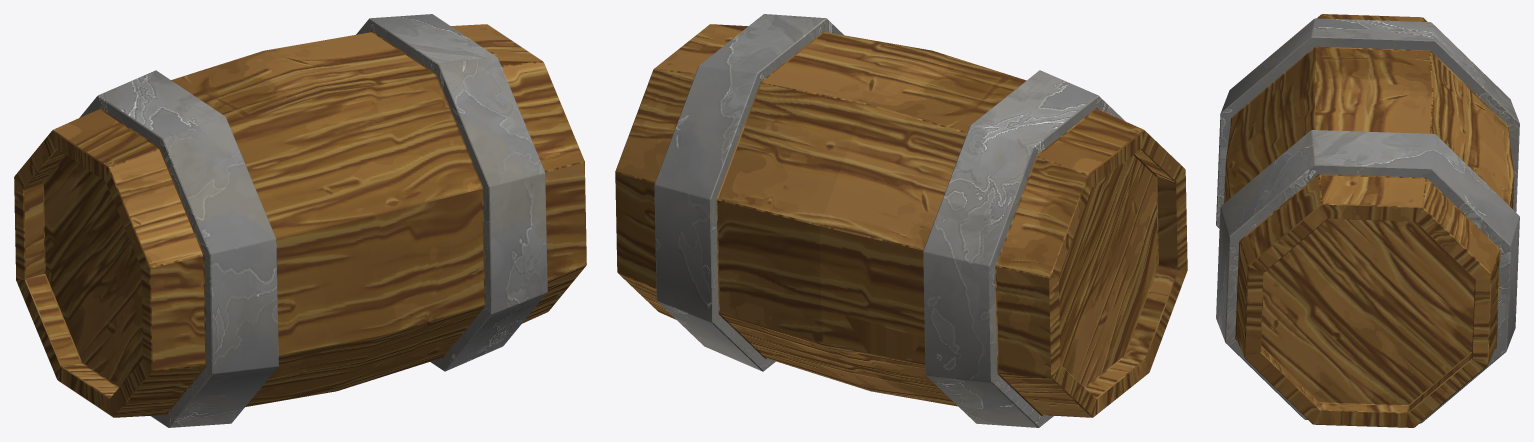
The model's file is Barrel.fbx.
The picture shows the model from 3 angles, left to right: view 1: azimuth 30°, elevation 25°; view 2: azimuth 150°, elevation 25°; view 3: azimuth 270°, elevation 25°; orthographic projection. The views are drawn at different scales.
Parts seen in each view (by area): view 1: Barrel; view 2: Barrel; view 3: Barrel.
Boxes of the visible parts, left/top/right/bottom form: Barrel: left=14, top=14, right=586, bottom=427; Barrel: left=615, top=14, right=1187, bottom=427; Barrel: left=1216, top=14, right=1519, bottom=427.
Size of the model in its own units: 1.21 by 0.8202 by 0.8202.
2 materials, 2 textured.
